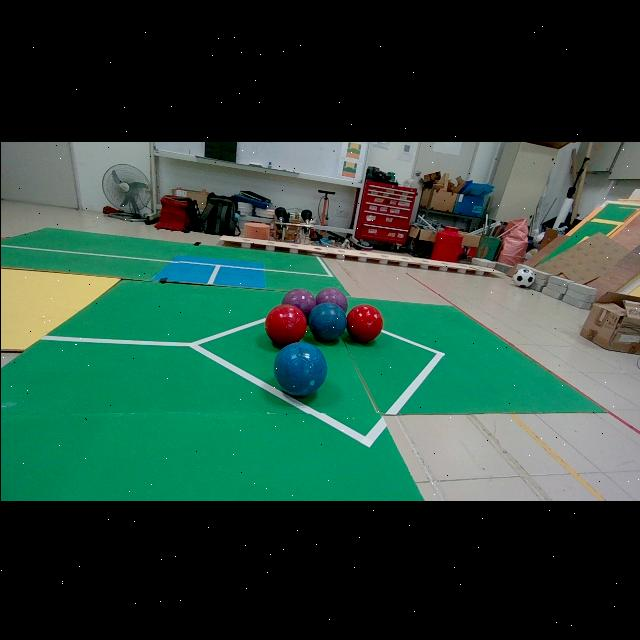B: (272, 340, 326, 394), (307, 301, 345, 341)
P: (281, 287, 315, 317), (315, 287, 347, 310)
R: (264, 302, 306, 346), (345, 303, 382, 341)
